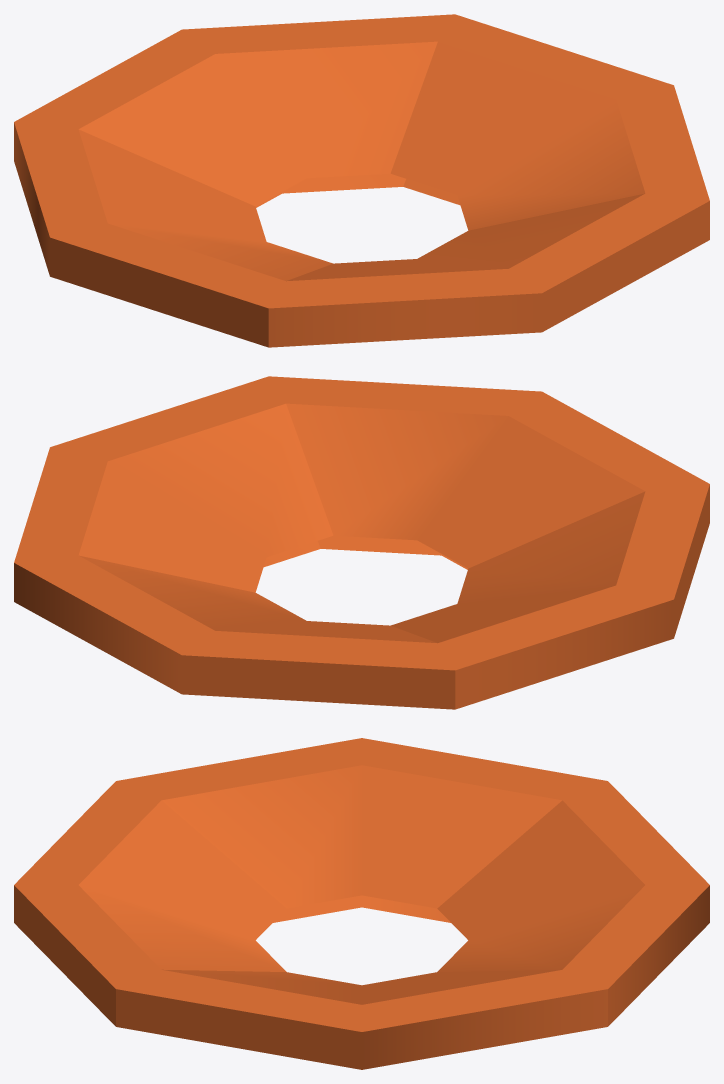
Rendered from prop_candle_metal.glb.
3 views of the same model, one above another, from view 1: azimuth 30°, elevation 25°; view 2: azimuth 150°, elevation 25°; view 3: azimuth 270°, elevation 25° (orthographic). The views are drawn at different scales.
Parts seen in each view (by area): view 1: Props with out snow_Candle metal_0; view 2: Props with out snow_Candle metal_0; view 3: Props with out snow_Candle metal_0.
Part boxes in pixels (<box>): Props with out snow_Candle metal_0: <box>14,14,709,347</box>; Props with out snow_Candle metal_0: <box>14,376,709,709</box>; Props with out snow_Candle metal_0: <box>14,738,709,1069</box>.
Size of the model in its own units: 0.3426 by 0.0474 by 0.3426.
